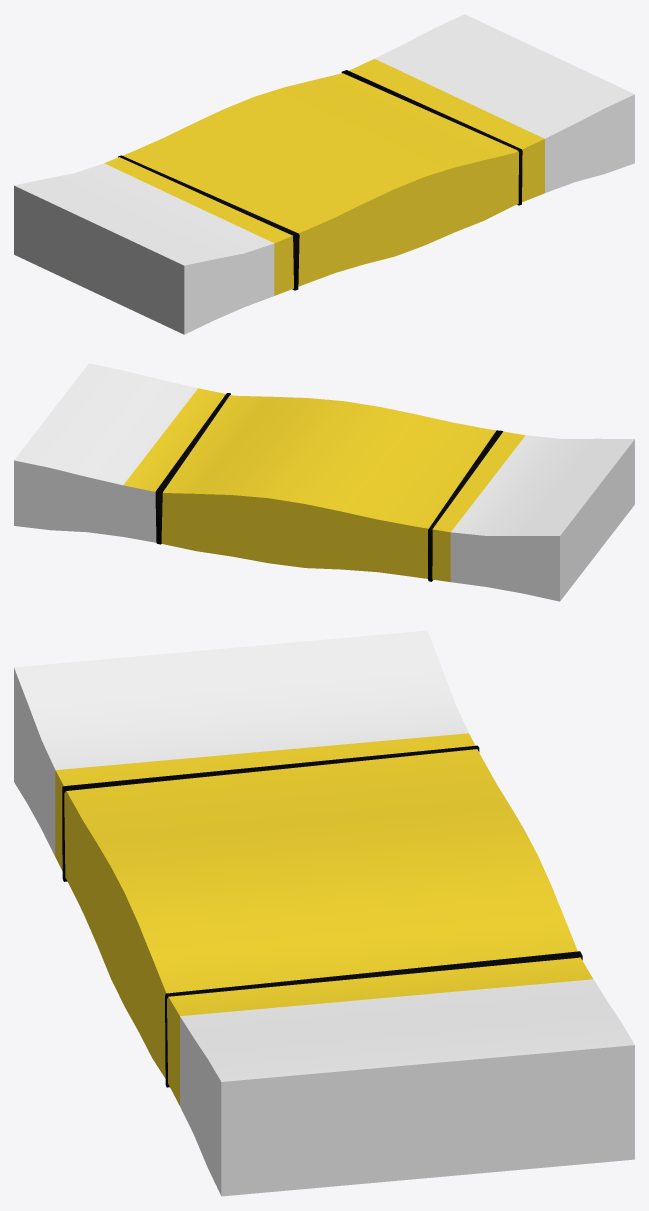
File: ToyObject_212.fbx
3 renders of one model, top to bottom at view 1: azimuth 30°, elevation 25°; view 2: azimuth 150°, elevation 25°; view 3: azimuth 270°, elevation 25°, orthographic. The views are drawn at different scales.
Visible parts, largest first — view 1: Object.002; view 2: Object.002; view 3: Object.002.
Part boxes in pixels (left/top/right/bottom): Object.002: left=14, top=14, right=634, bottom=334; Object.002: left=14, top=363, right=634, bottom=601; Object.002: left=14, top=630, right=634, bottom=1196.
Bounding box in the file's own units: 0.1673 × 0.0204 × 0.0971.
